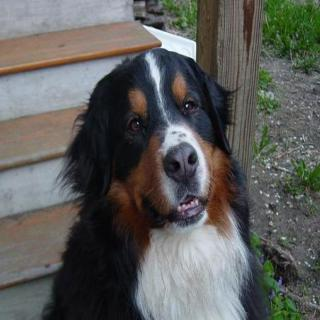dog: (57, 48, 237, 232)
nose: (158, 138, 206, 187)
